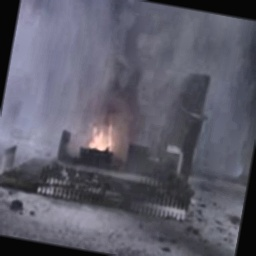fire: (72, 111, 134, 179)
smoke: (4, 0, 256, 136)
